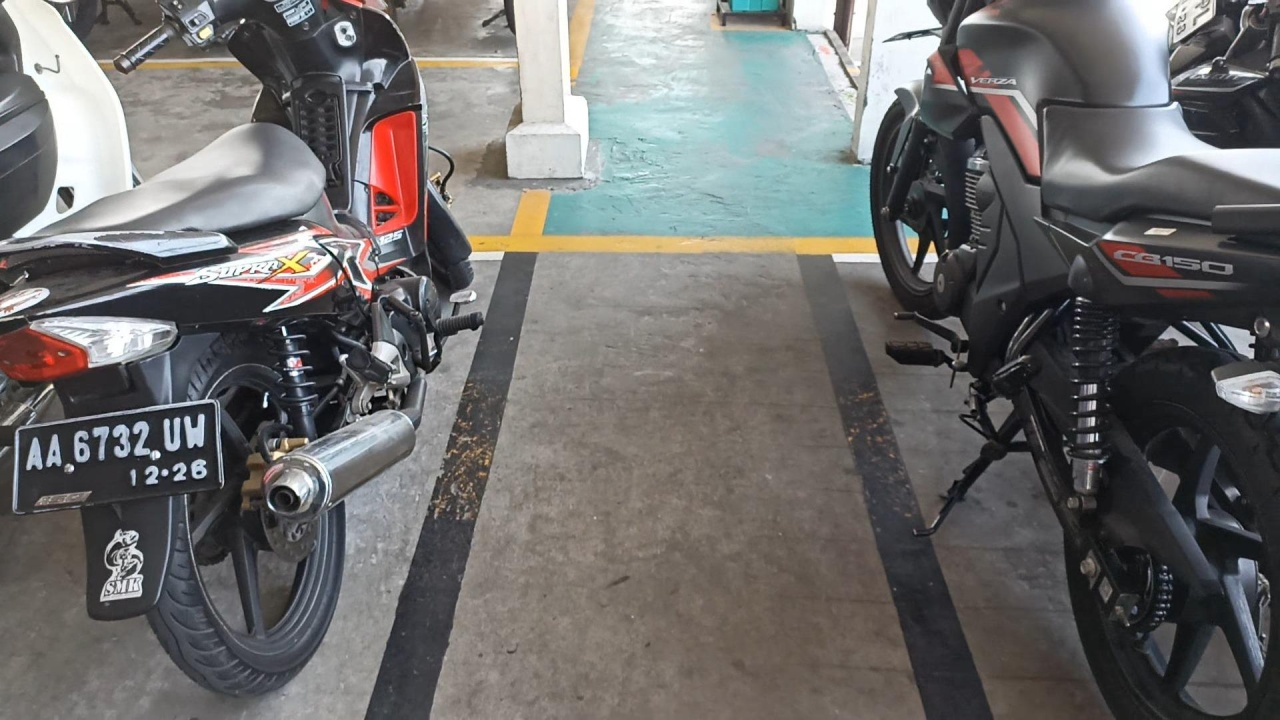plate: (13, 397, 224, 516)
